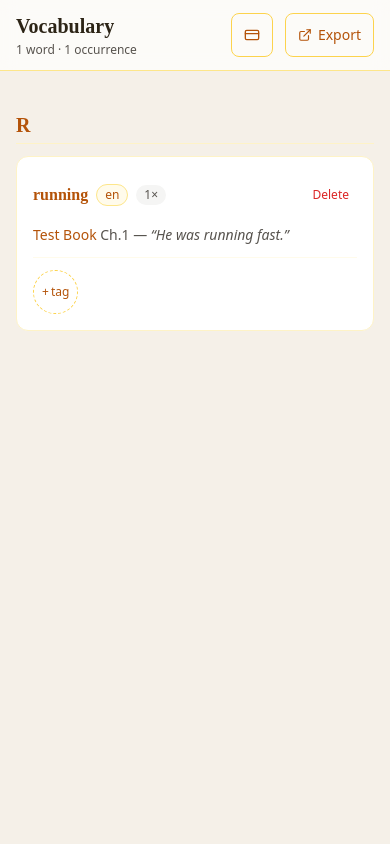
Test: lemma indicator is absent when word equals lemma
This screenshot has width=390, height=844.
Click the button "running": coordinates (61, 195) [33,173,88,217]
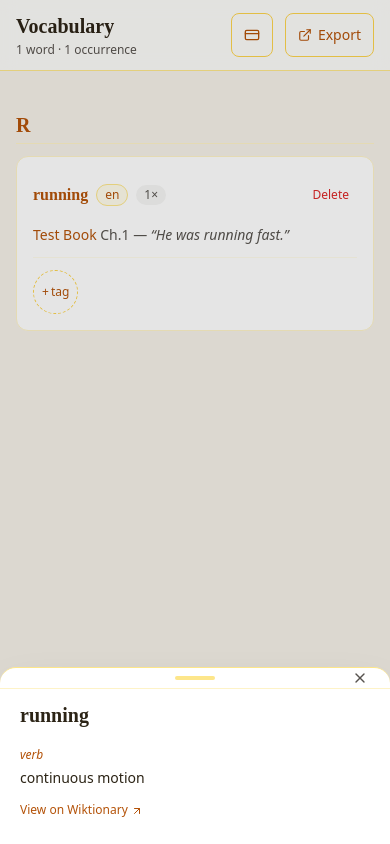
Expected: the text "continuous motion" is shown, [20,768,145,787]
